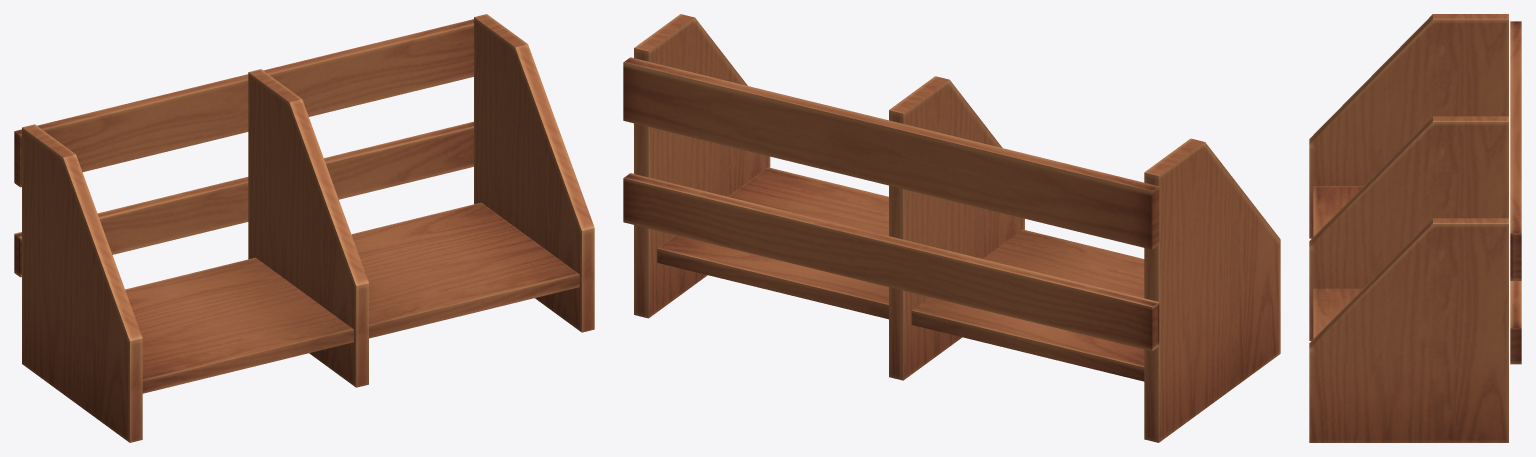
The model's file is SiZheBingFang_01_xiaoshujia_01.FBX.
The picture shows the model from 3 angles, left to right: view 1: azimuth 30°, elevation 25°; view 2: azimuth 150°, elevation 25°; view 3: azimuth 270°, elevation 25°; orthographic projection. The views are drawn at different scales.
Parts seen in each view (by area): view 1: SiZheBingFang_xiaoshujia_01; view 2: SiZheBingFang_xiaoshujia_01; view 3: SiZheBingFang_xiaoshujia_01.
Part boxes in pixels (box(x1,y1,x2,y2)): SiZheBingFang_xiaoshujia_01: box(14, 14, 594, 442); SiZheBingFang_xiaoshujia_01: box(623, 14, 1280, 442); SiZheBingFang_xiaoshujia_01: box(1309, 14, 1521, 442).
Size of the model in its own units: 375 by 181 by 159.
